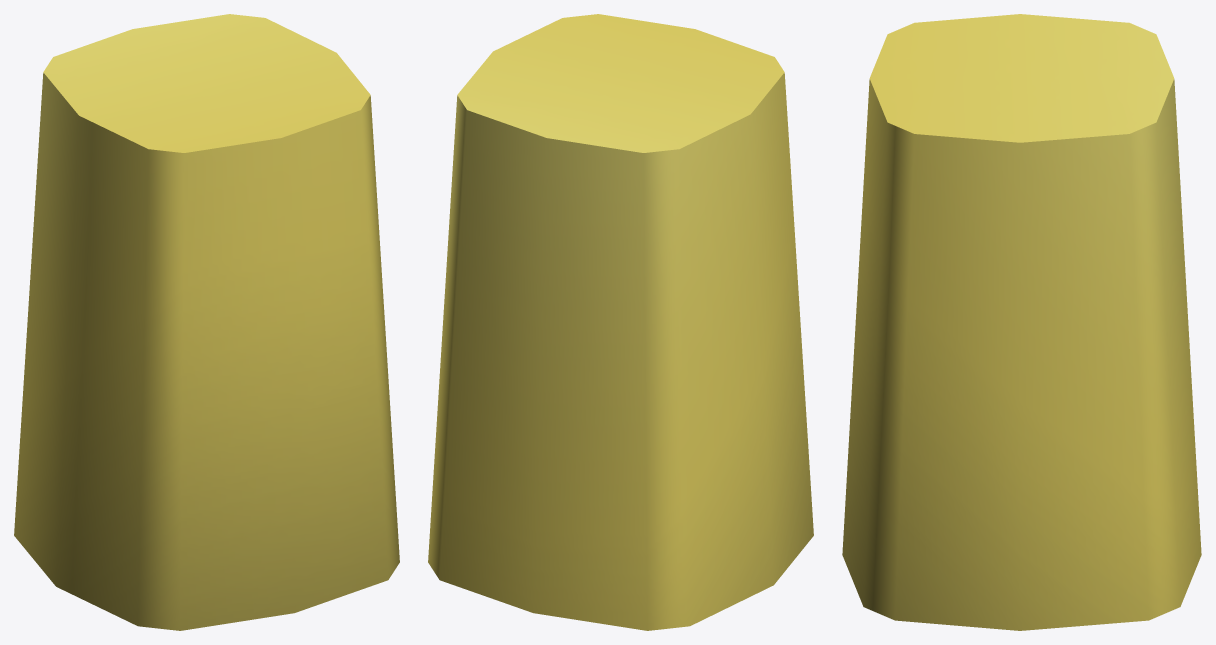
File: glass_content_yellow.fbx
The picture shows the model from 3 angles, left to right: view 1: azimuth 30°, elevation 25°; view 2: azimuth 150°, elevation 25°; view 3: azimuth 270°, elevation 25°; orthographic projection. The views are drawn at different scales.
Visible parts, largest first — view 1: glass_content_yellow; view 2: glass_content_yellow; view 3: glass_content_yellow.
Part boxes in pixels (box(x1,y1,x2,y2)): glass_content_yellow: box(14, 14, 399, 630); glass_content_yellow: box(428, 14, 813, 630); glass_content_yellow: box(842, 14, 1201, 630).
Bounding box in the file's own units: 13.53 × 19.81 × 13.53.
